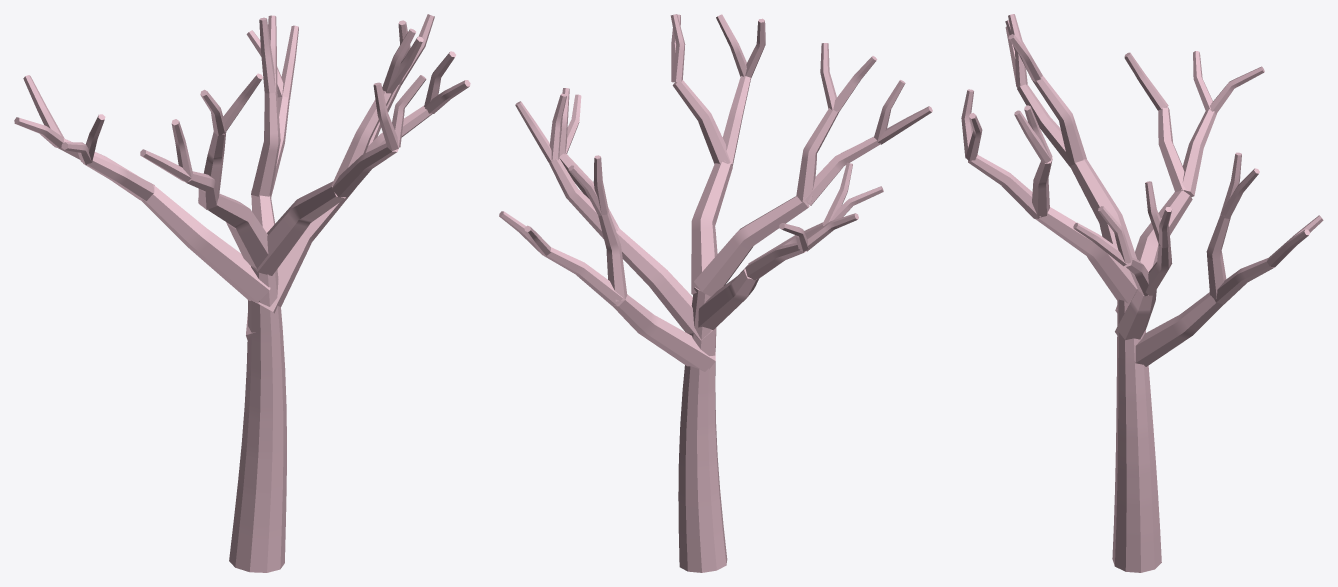
File: BareTree_Pink_B.fbx
The picture shows the model from 3 angles, left to right: view 1: azimuth 30°, elevation 25°; view 2: azimuth 150°, elevation 25°; view 3: azimuth 270°, elevation 25°; orthographic projection. The views are drawn at different scales.
Parts seen in each view (by area): view 1: BareTree_Pink_B; view 2: BareTree_Pink_B; view 3: BareTree_Pink_B.
Boxes of the visible parts, left/top/right/bottom form: BareTree_Pink_B: left=14, top=14, right=470, bottom=572; BareTree_Pink_B: left=499, top=14, right=932, bottom=572; BareTree_Pink_B: left=961, top=14, right=1323, bottom=572.
Size of the model in its own units: 16.48 by 21.74 by 14.33.
